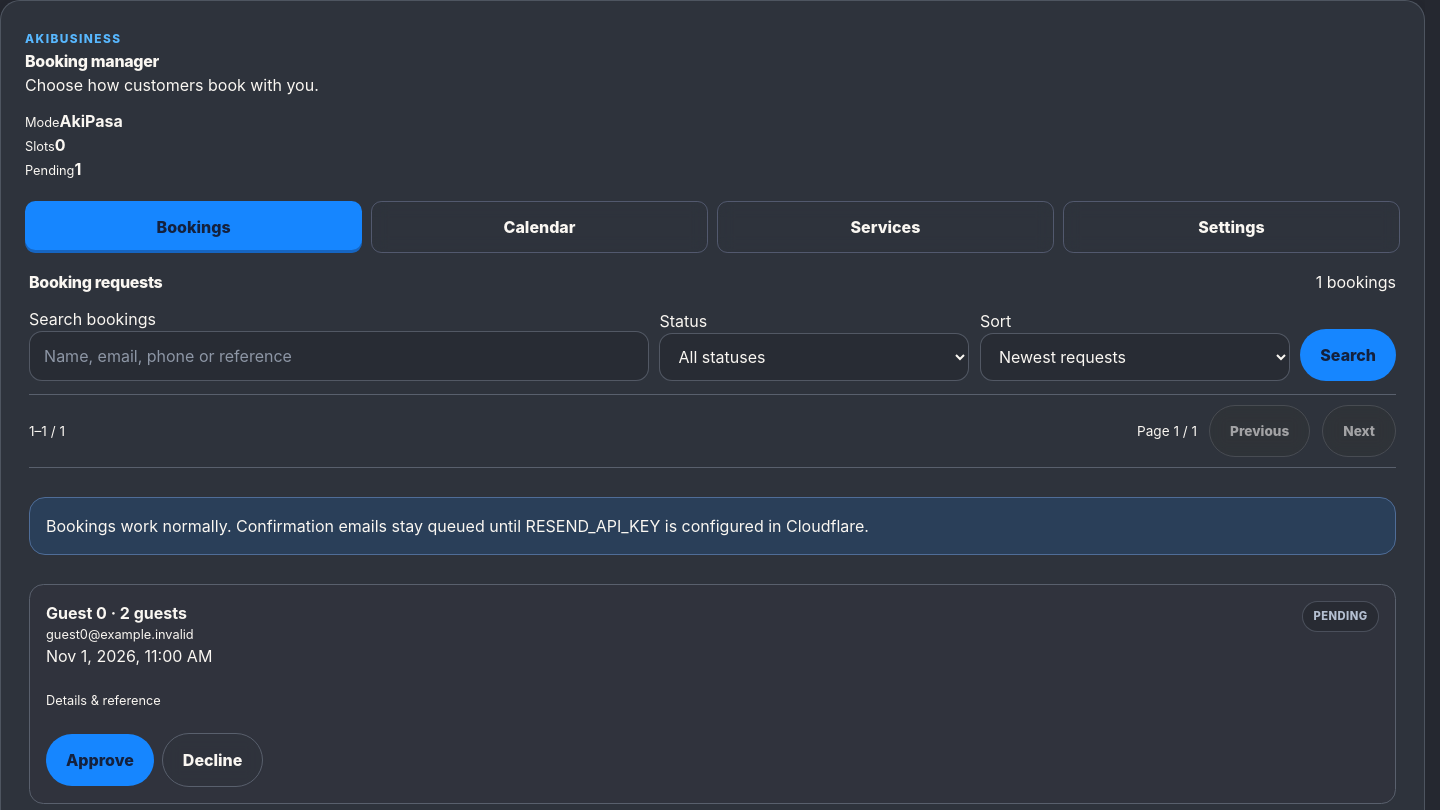
it: bounded booking inbox › shows historic slot dates and details without relying on the calendar array
Click the heading "Details & reference" at (103, 700), box [46,693,161,708]
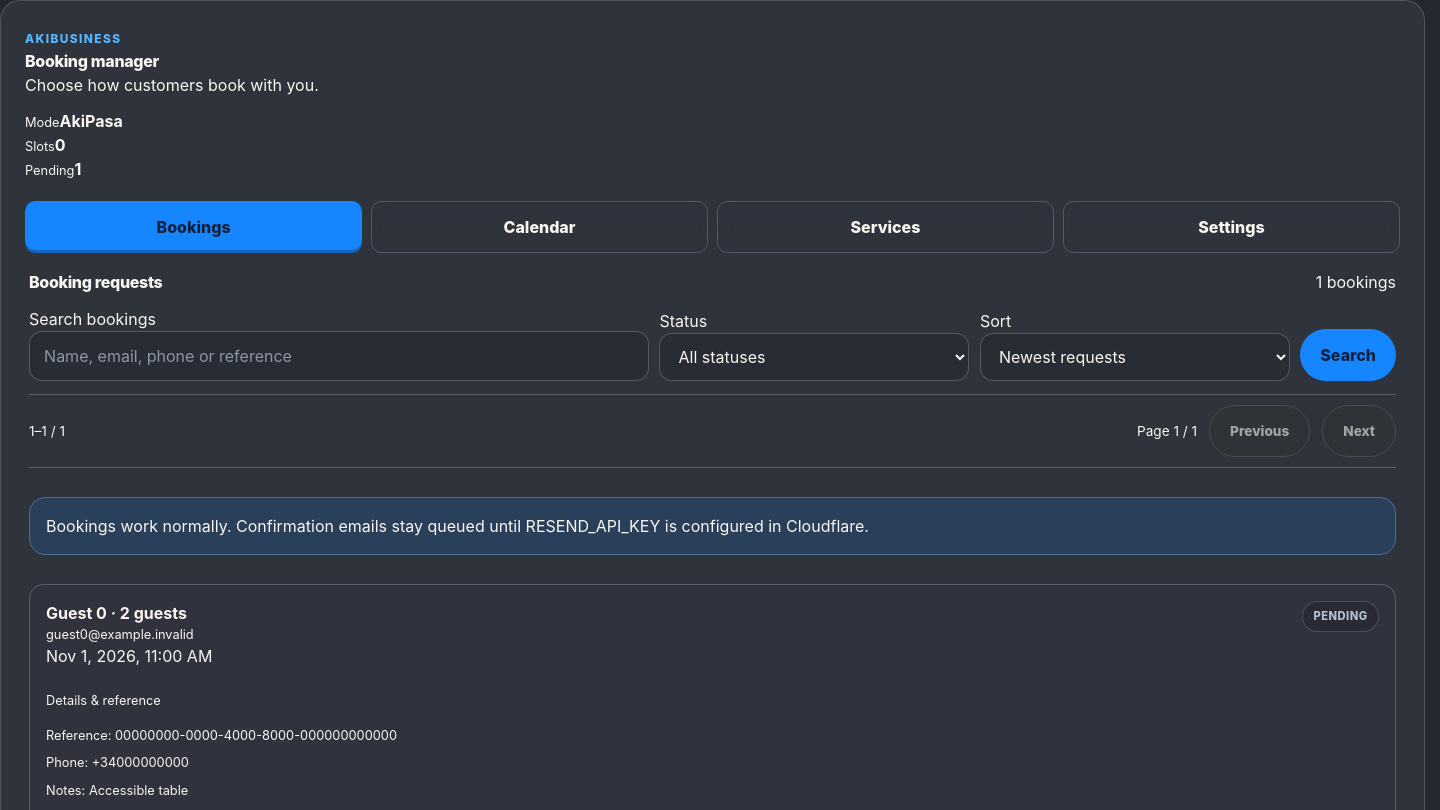
Check: the text "Notes: Accessible table" is shown, box [46,783,188,798]
